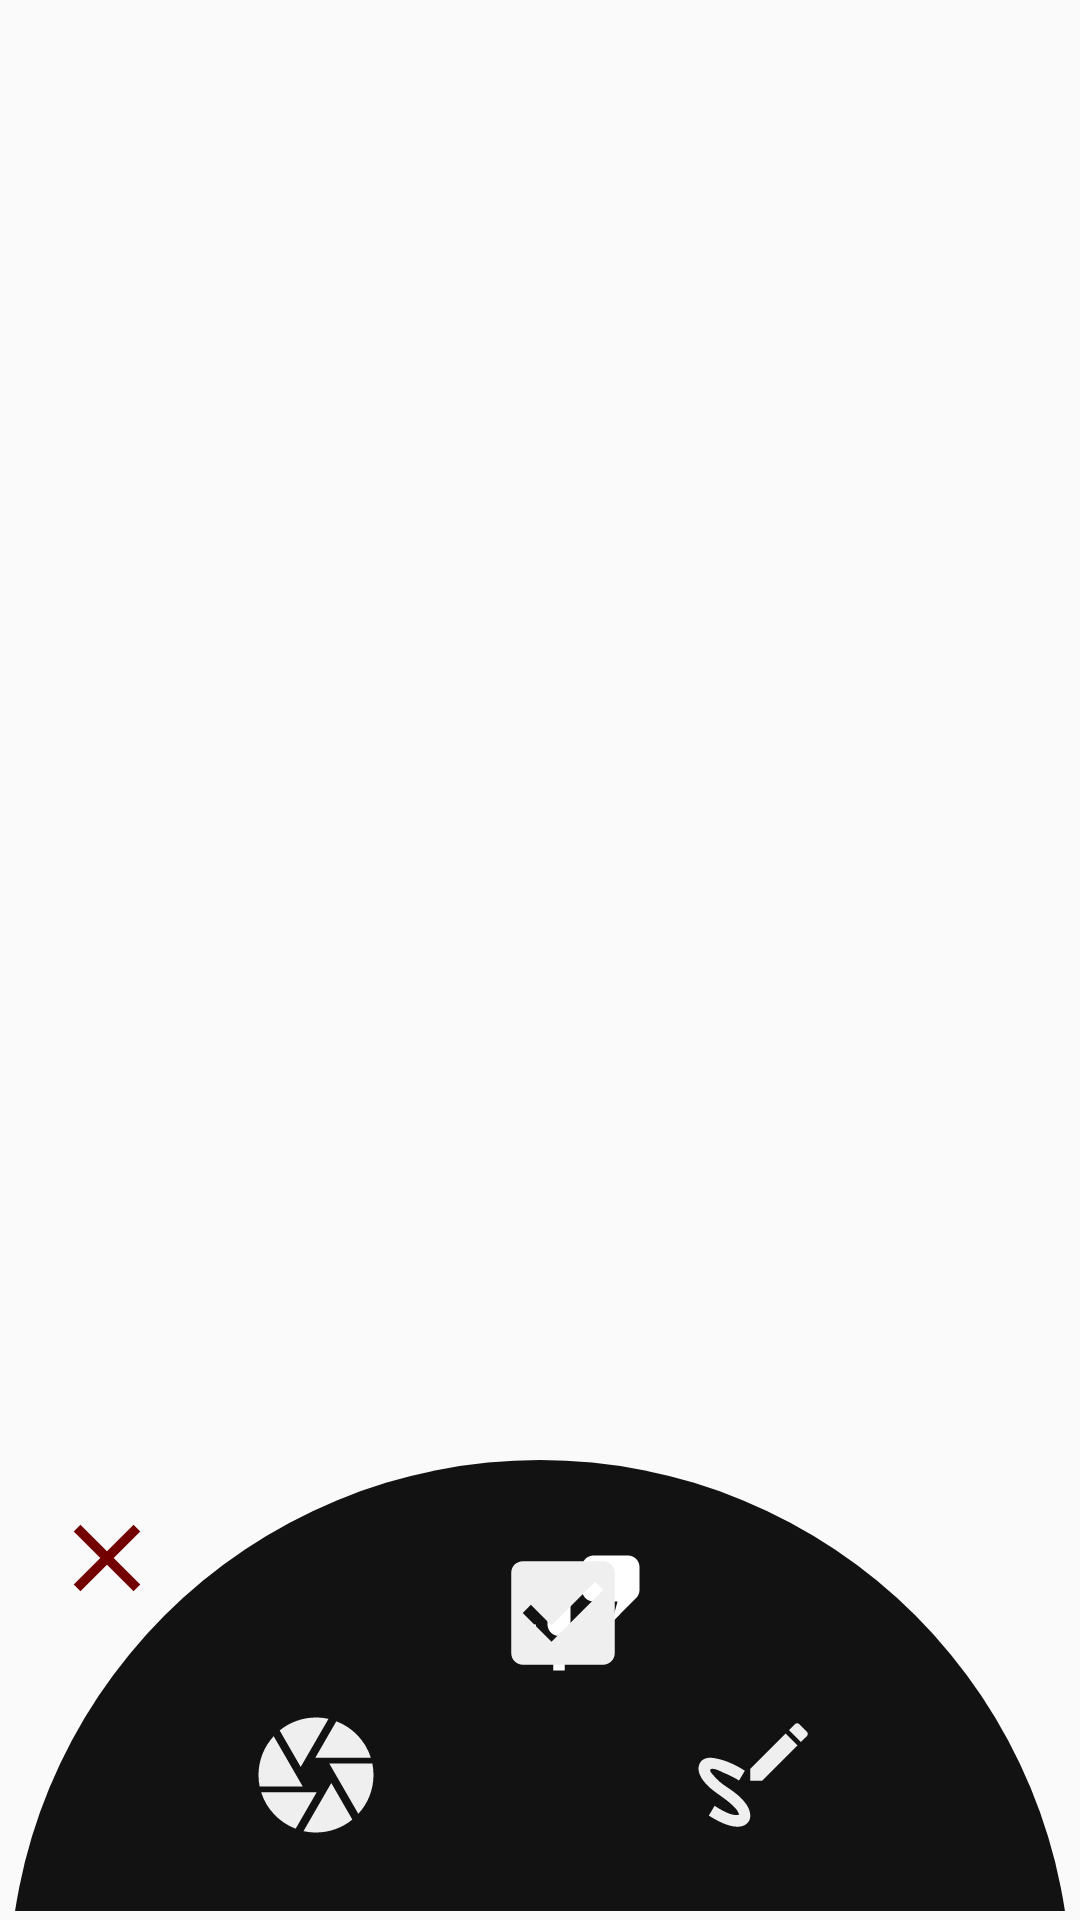

Locate icon controls on the screen. Image size 1080x1920, boxes as (x1, y1, x2, y2).
camera: (258, 1717, 374, 1833)
close: (74, 1525, 140, 1591)
draw: (698, 1723, 808, 1827)
